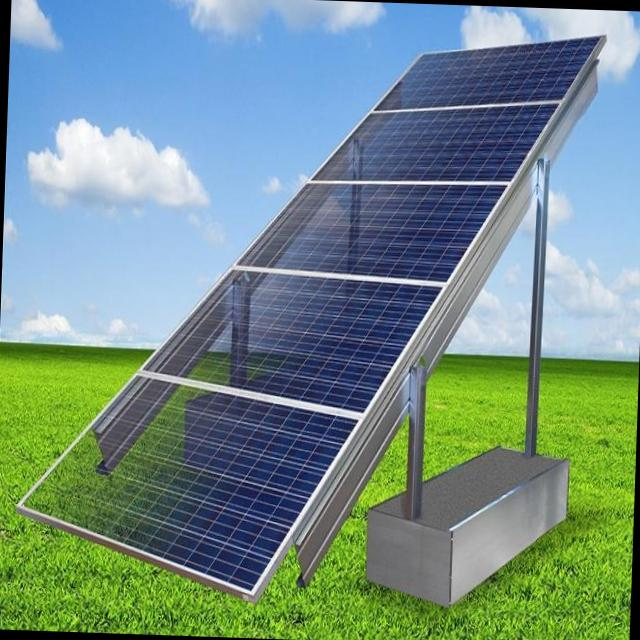no faulty: (165, 408, 359, 585), (244, 186, 498, 272), (319, 111, 547, 176), (377, 39, 594, 107), (282, 284, 372, 402)
